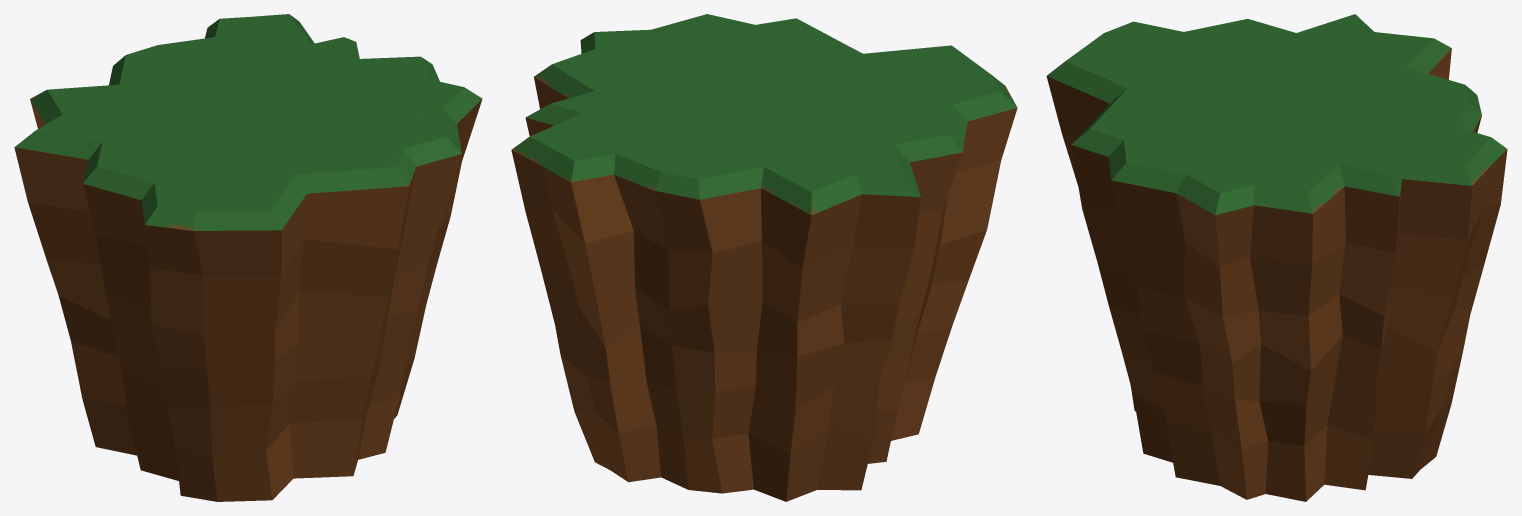
File: Cliff-number-one1.glb
3 renders of one model, left to right at view 1: azimuth 30°, elevation 25°; view 2: azimuth 150°, elevation 25°; view 3: azimuth 270°, elevation 25°, orthographic. The views are drawn at different scales.
Parts seen in each view (by area): view 1: Plane; view 2: Plane; view 3: Plane.
Boxes of the visible parts, x1,y1,x2,y2 form: Plane: (14, 14, 482, 501); Plane: (511, 14, 1017, 501); Plane: (1046, 14, 1507, 501).
Size of the model in its own units: 2.46 by 1.93 by 2.4.
1 material, 1 textured.
